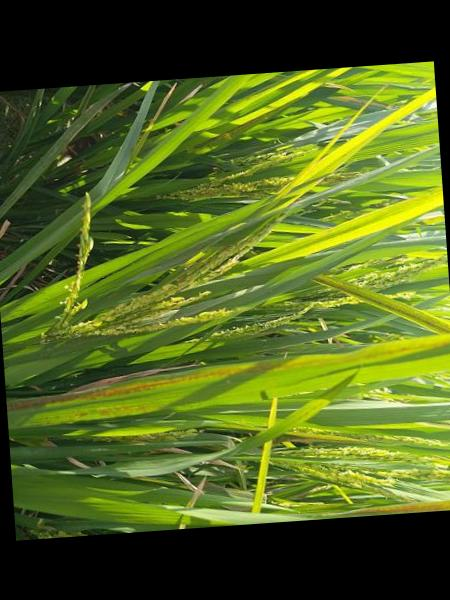Leaf Streak: (7, 334, 450, 411), (35, 398, 158, 423), (335, 499, 450, 515)
